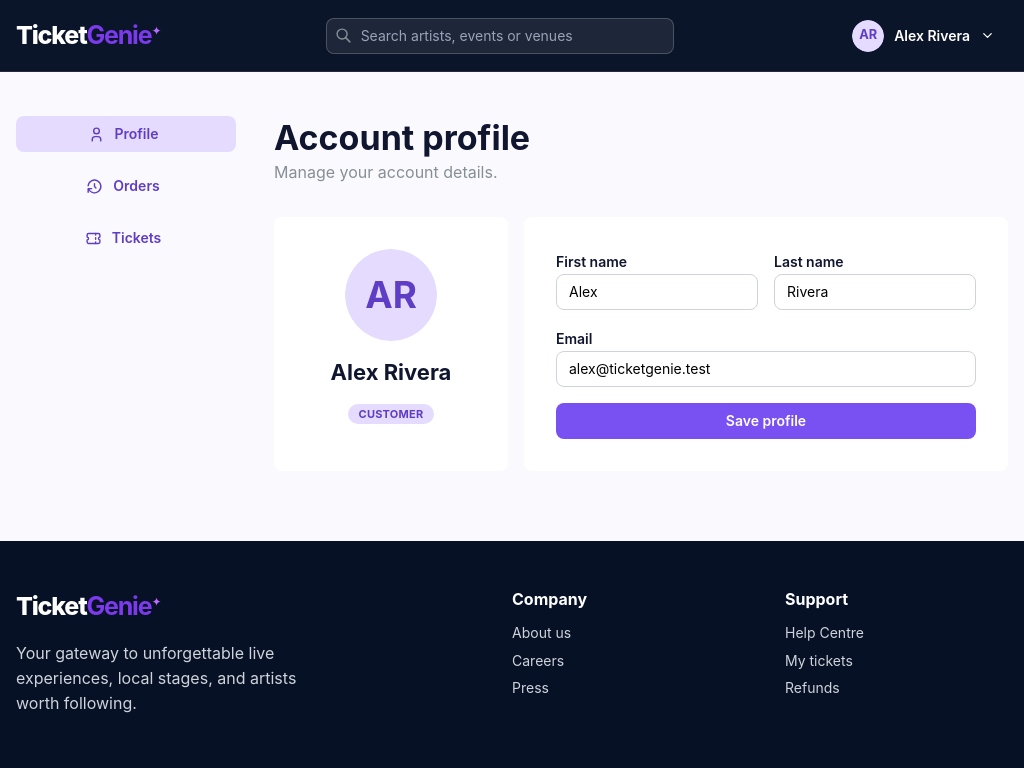
Test: application route smoke coverage › updates the Customer profile through MSW
Replace the text in the field labelled "Last name" with "Rivera Updated" at (875, 292), box [774,274,976,310]
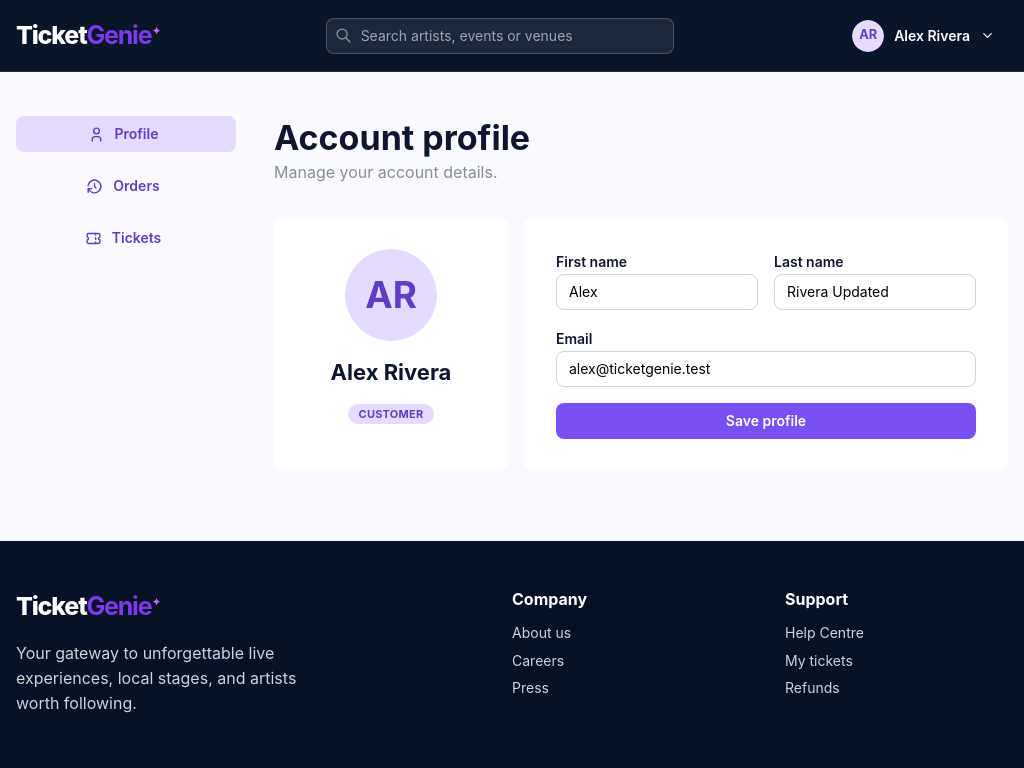
Click the button "Save profile" at (766, 421), box [556,403,976,439]
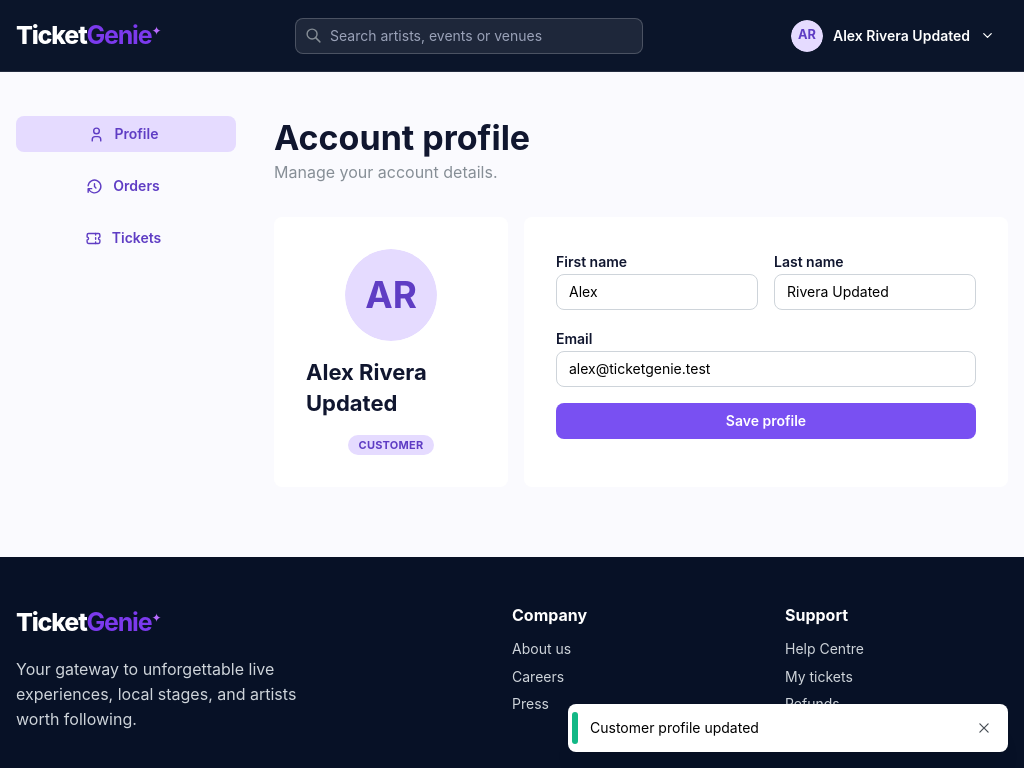
Expected: the text "Customer profile updated" is shown, [590,719,759,736]
